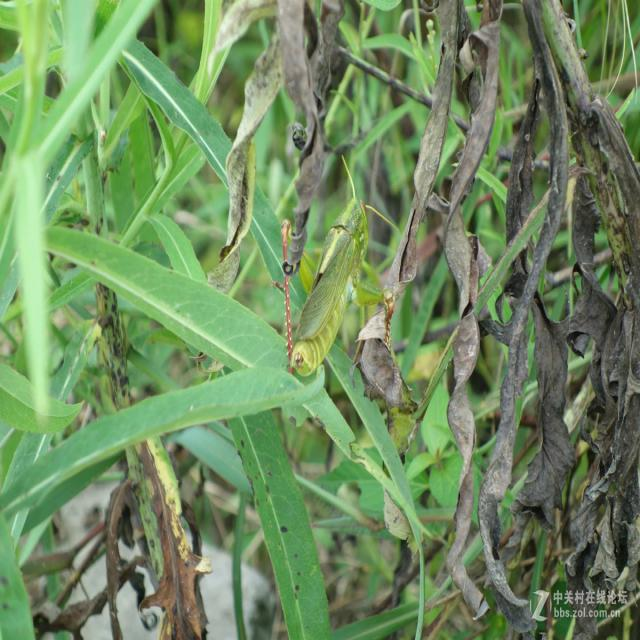ZhaMeng: (289, 174, 384, 400)
